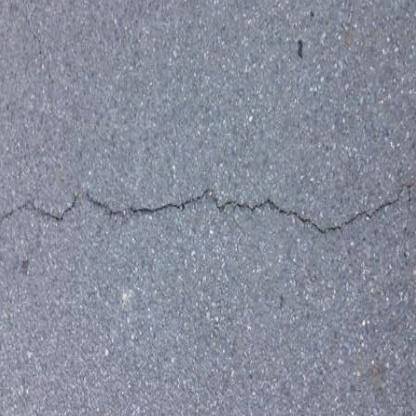Cracks: (0, 158, 416, 272)
